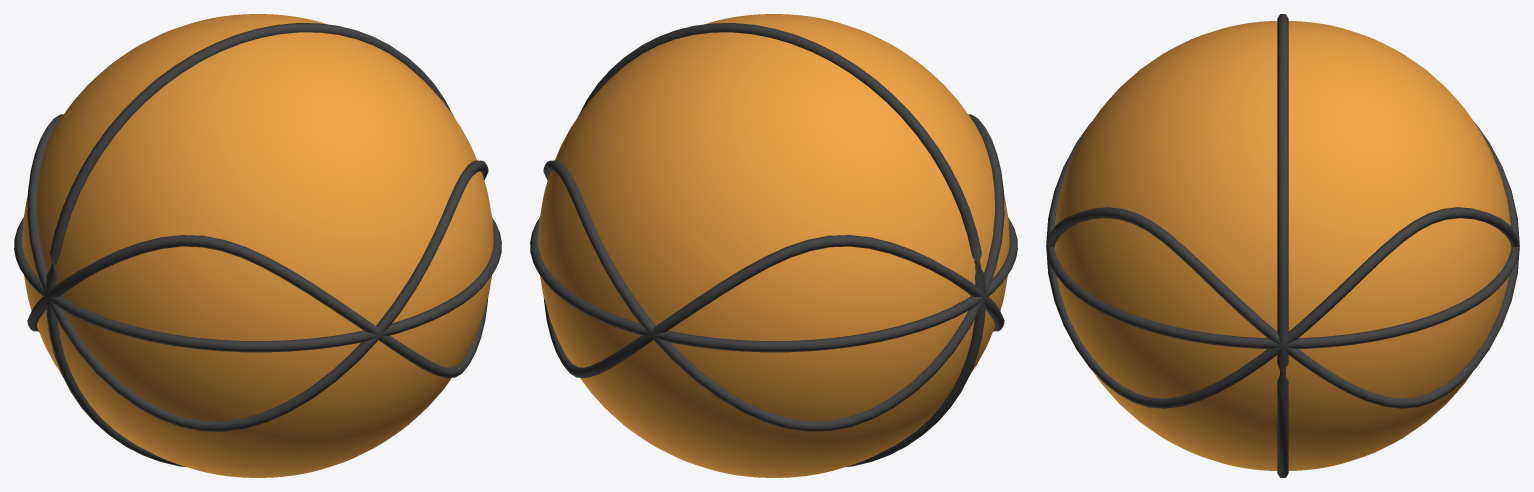
The model's file is basketball.glb.
3 renders of one model, left to right at view 1: azimuth 30°, elevation 25°; view 2: azimuth 150°, elevation 25°; view 3: azimuth 270°, elevation 25°, orthographic. The views are drawn at different scales.
Parts seen in each view (by area): view 1: Basketball; view 2: Basketball; view 3: Basketball.
Part boxes in pixels (x1=…): Basketball: x1=14, y1=14, x2=501, y2=477; Basketball: x1=530, y1=14, x2=1017, y2=477; Basketball: x1=1046, y1=14, x2=1519, y2=477.
Size of the model in its own units: 0.248 by 0.2423 by 0.248.
